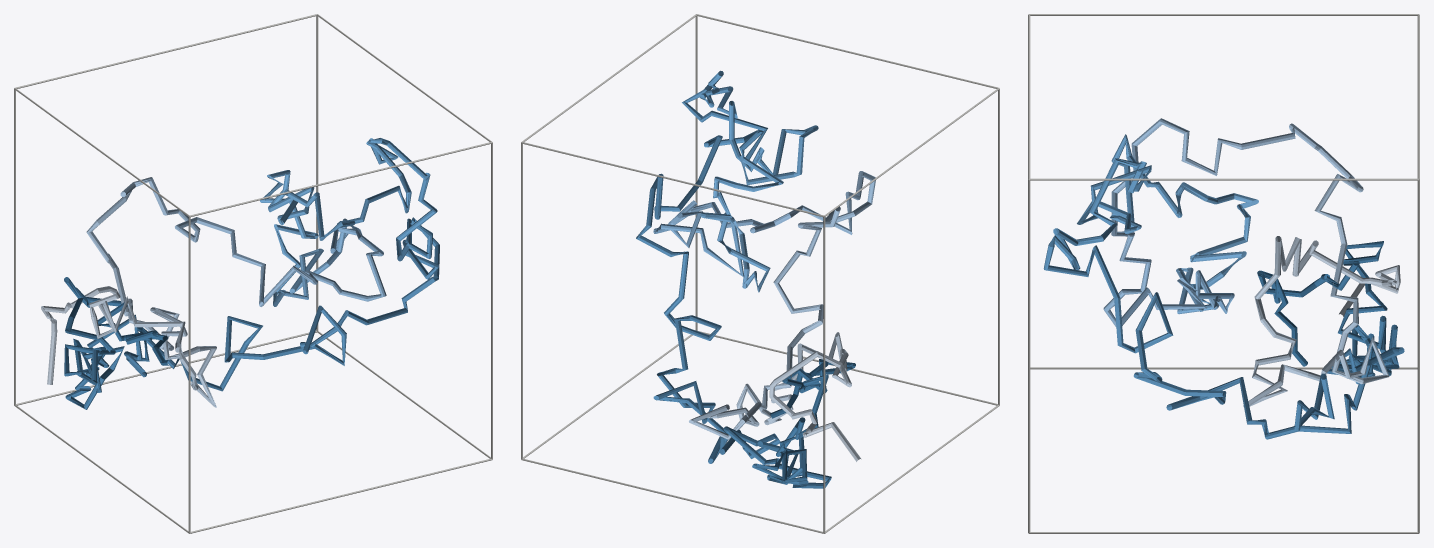
3 views of the same model, side by side, from view 1: azimuth 30°, elevation 25°; view 2: azimuth 150°, elevation 25°; view 3: azimuth 270°, elevation 25° (orthographic). The views are drawn at different scales.
Parts seen in each view (by area): view 1: geometry_0, geometry_1; view 2: geometry_0, geometry_1; view 3: geometry_0, geometry_1.
Part boxes in pixels (box(x1,y1,x2,y2)): geometry_0: box(41, 138, 439, 409); geometry_1: box(14, 14, 492, 533); geometry_0: box(636, 70, 875, 488); geometry_1: box(521, 14, 999, 533); geometry_0: box(1043, 118, 1404, 439); geometry_1: box(1028, 14, 1419, 533).
Size of the model in its own units: 0.3037 by 0.3014 by 0.3016.
